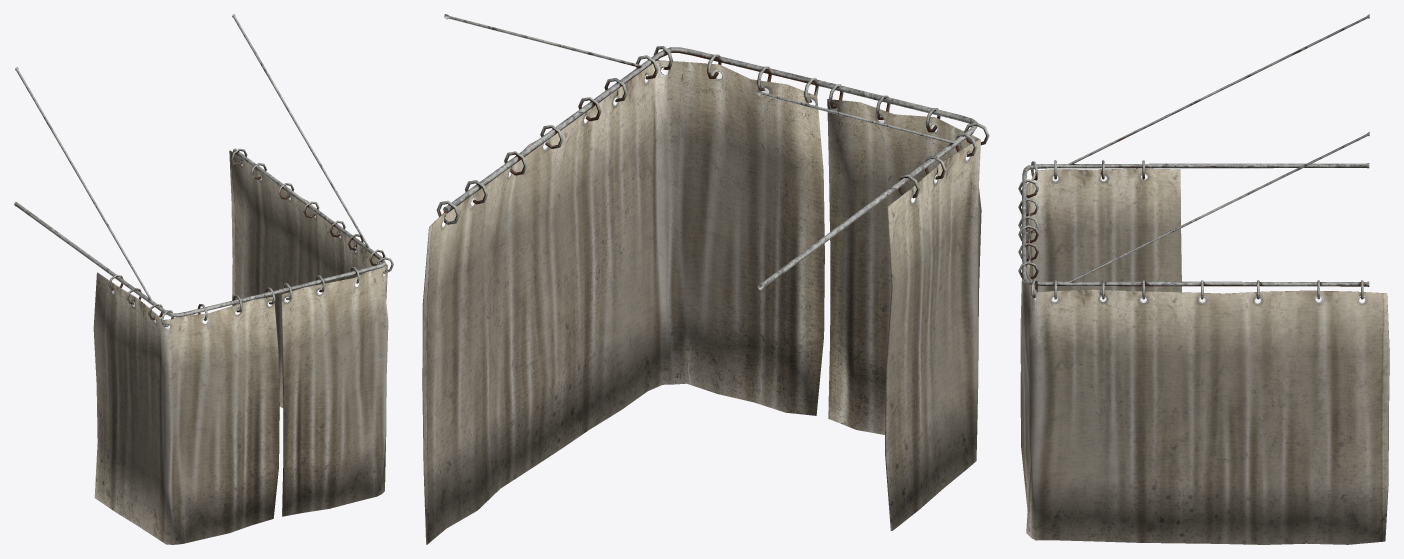
Rendered from Curtain4_Closed.fbx.
3 views of the same model, side by side, from view 1: azimuth 30°, elevation 25°; view 2: azimuth 150°, elevation 25°; view 3: azimuth 270°, elevation 25° (orthographic). The views are drawn at different scales.
Visible parts, largest first — view 1: Curtain.001; view 2: Curtain.001; view 3: Curtain.001.
Boxes of the visible parts, x1,y1,x2,y2 form: Curtain.001: [14, 14, 393, 544]; Curtain.001: [422, 14, 989, 544]; Curtain.001: [1018, 14, 1389, 544].
Bounding box in the file's own units: 544 × 794 × 655.
1 material, 1 textured.
